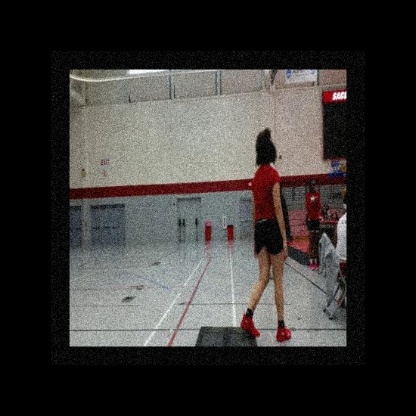lateral_flexion_right: (238, 121, 292, 347)
stance_width_broad: (238, 159, 292, 346)
